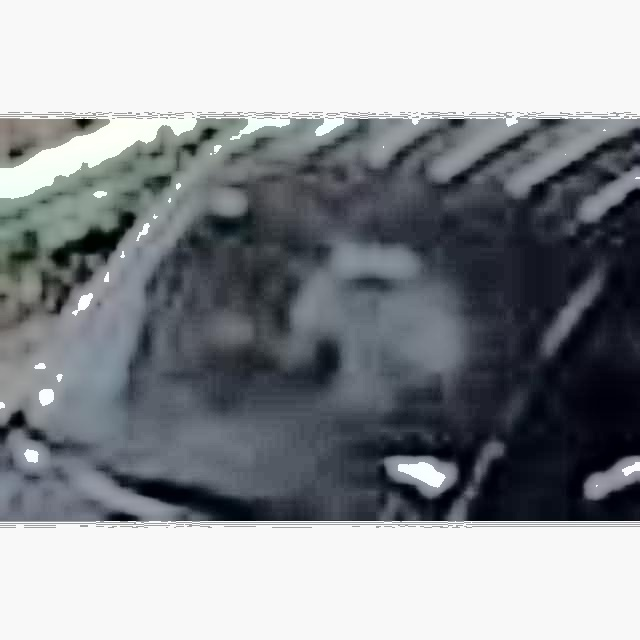tidak-pakai: (277, 230, 474, 435)
